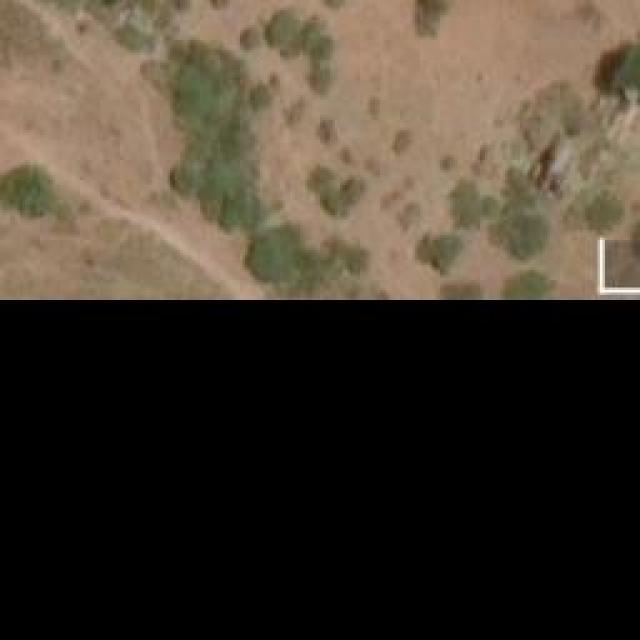Tree: (158, 38, 261, 143), (175, 132, 278, 230), (265, 10, 330, 80), (485, 205, 548, 263), (243, 225, 303, 285), (0, 165, 58, 218), (310, 165, 360, 218), (440, 180, 495, 225), (503, 265, 558, 301), (580, 193, 620, 233), (607, 40, 640, 87), (425, 230, 463, 270), (110, 15, 150, 53), (418, 0, 451, 30), (240, 30, 263, 50)
